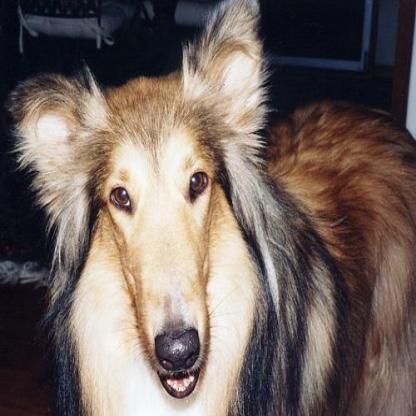collie: (1, 0, 414, 413)
